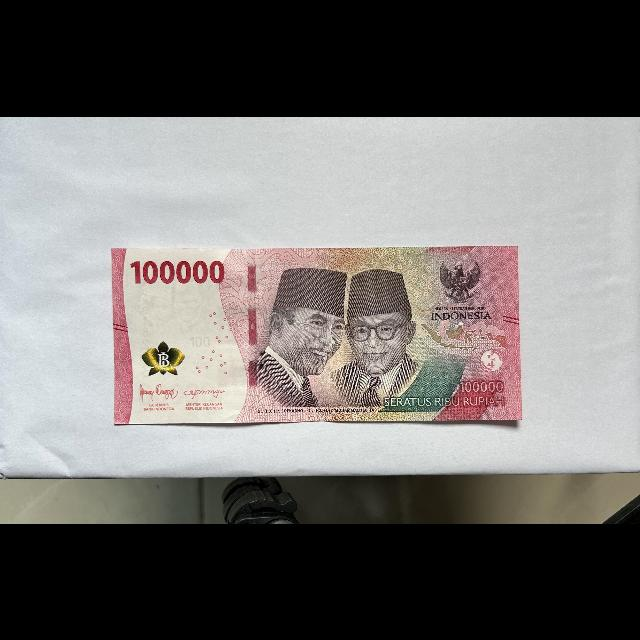Asli-100k: (110, 244, 524, 425)
Tinta-Asli-100k: (141, 340, 186, 377)
